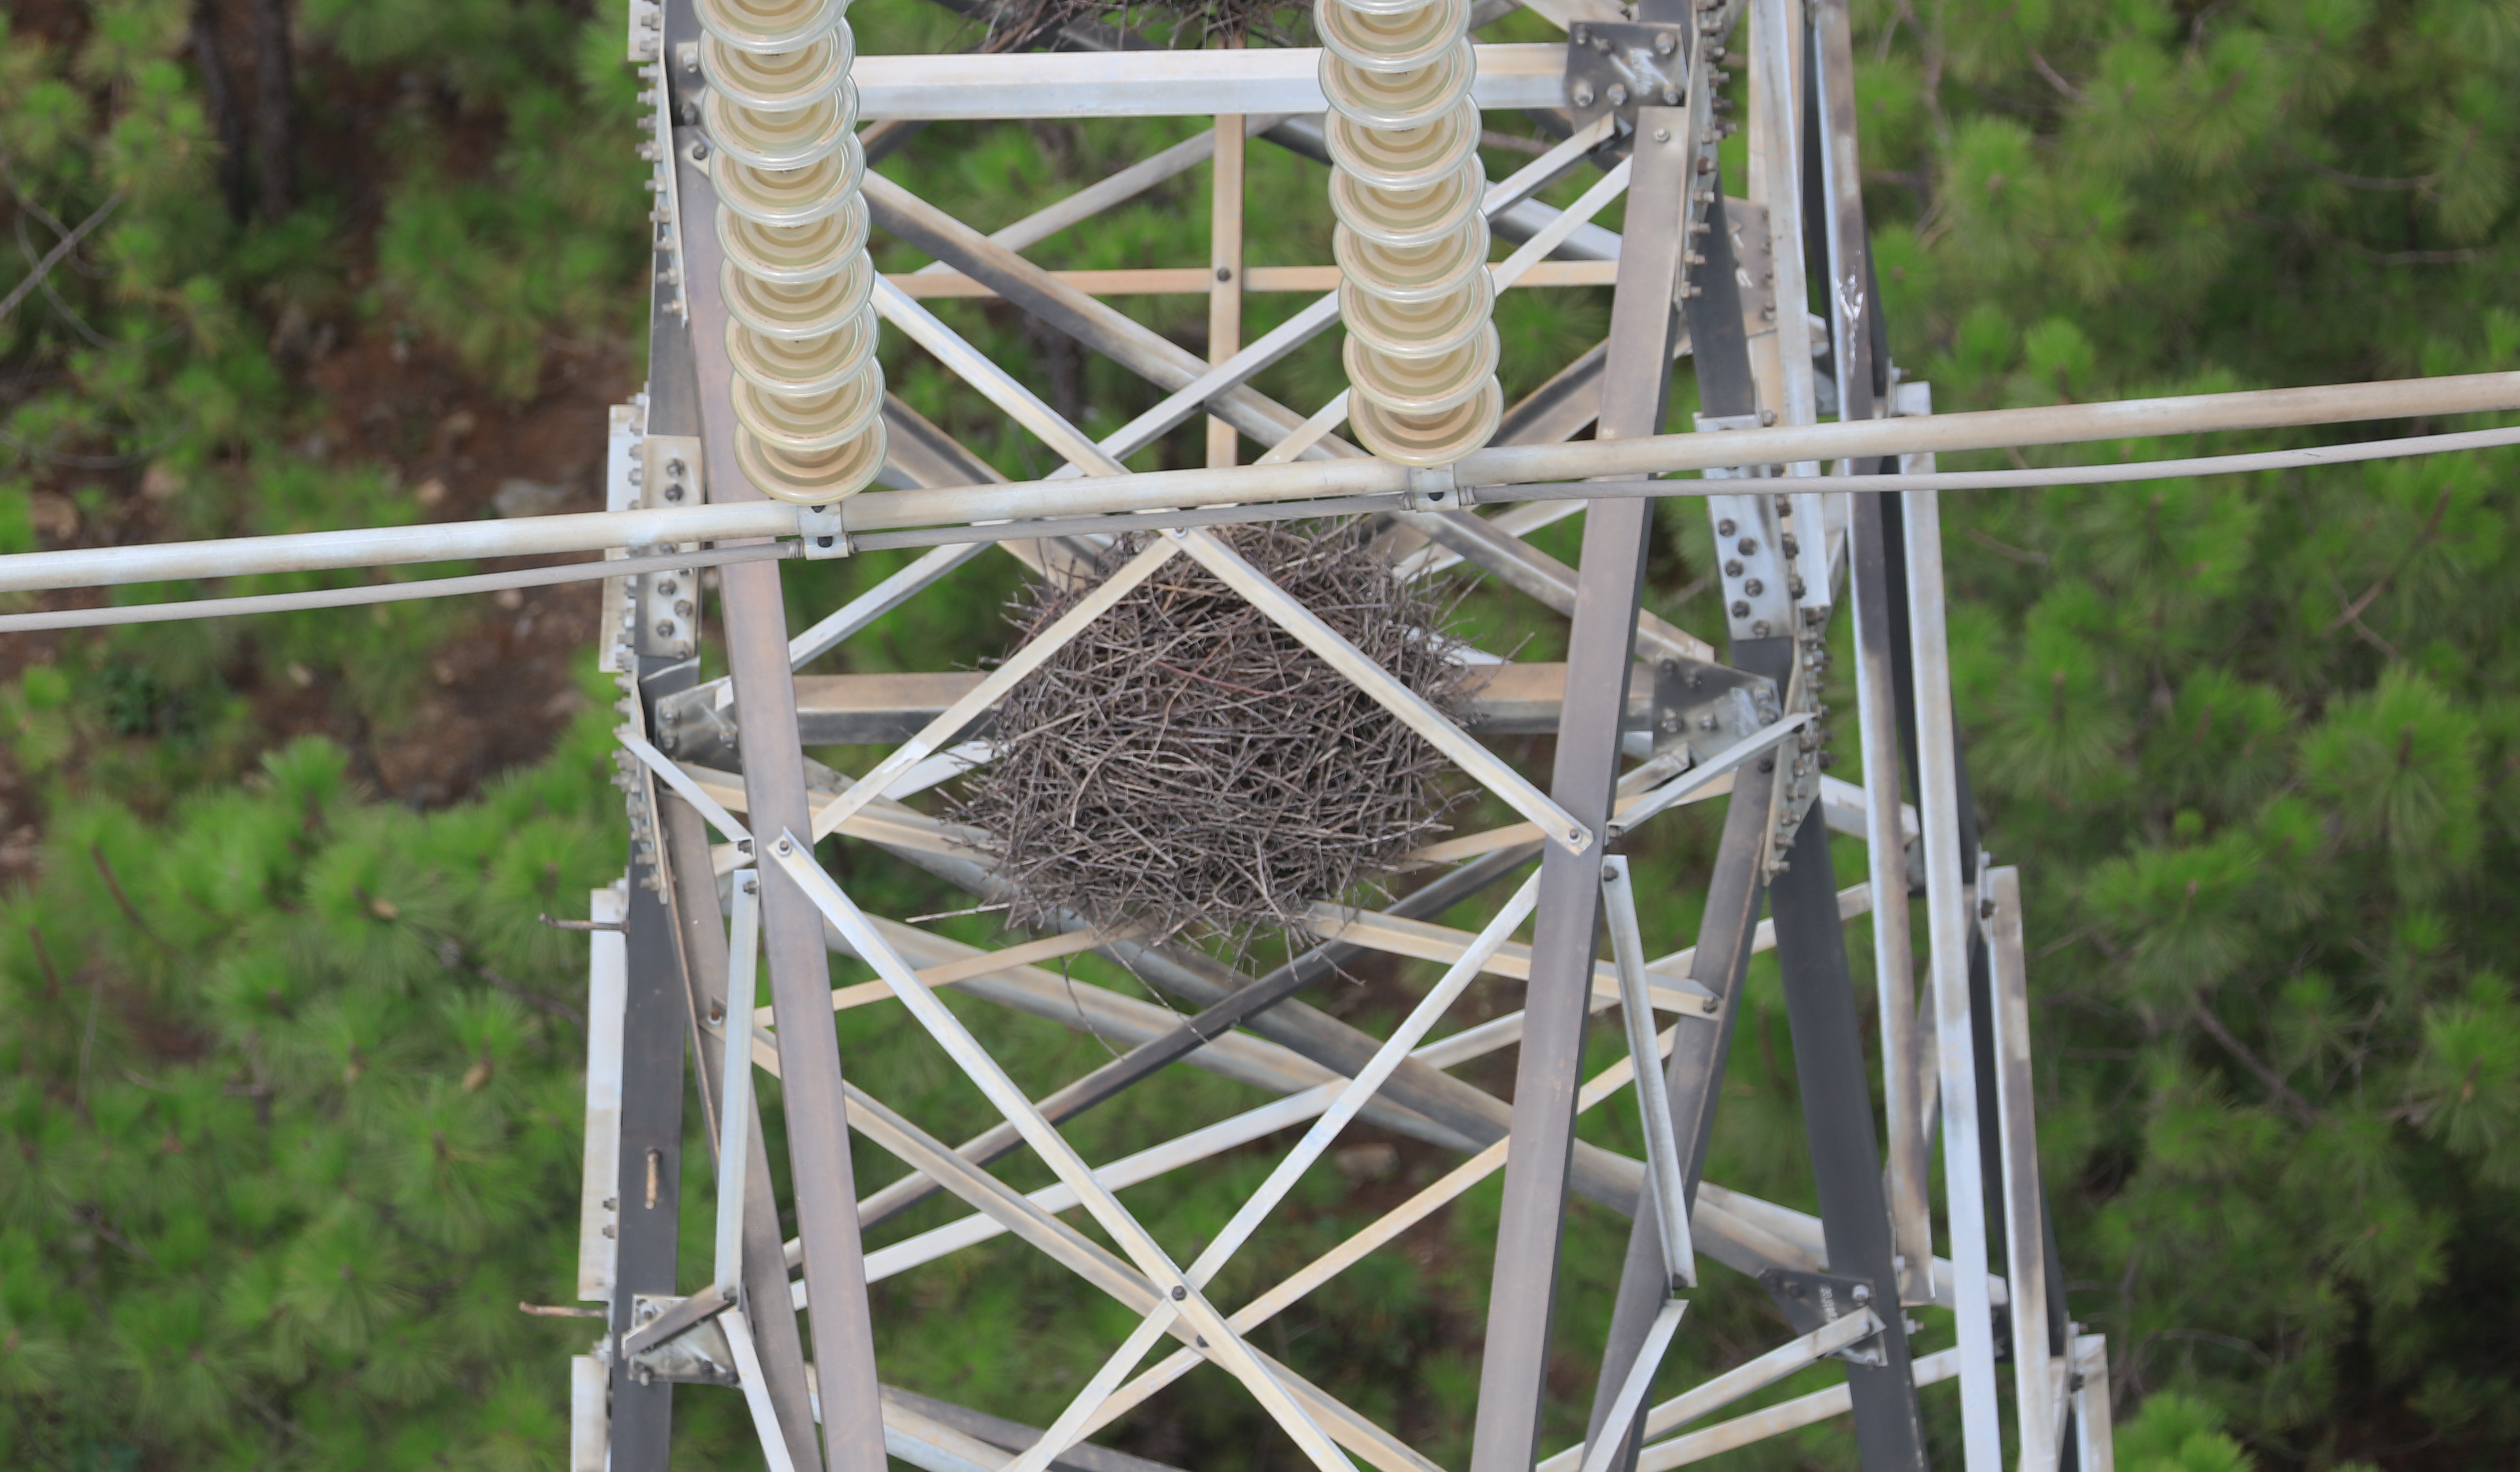niaowo: (955, 494, 1490, 967)
